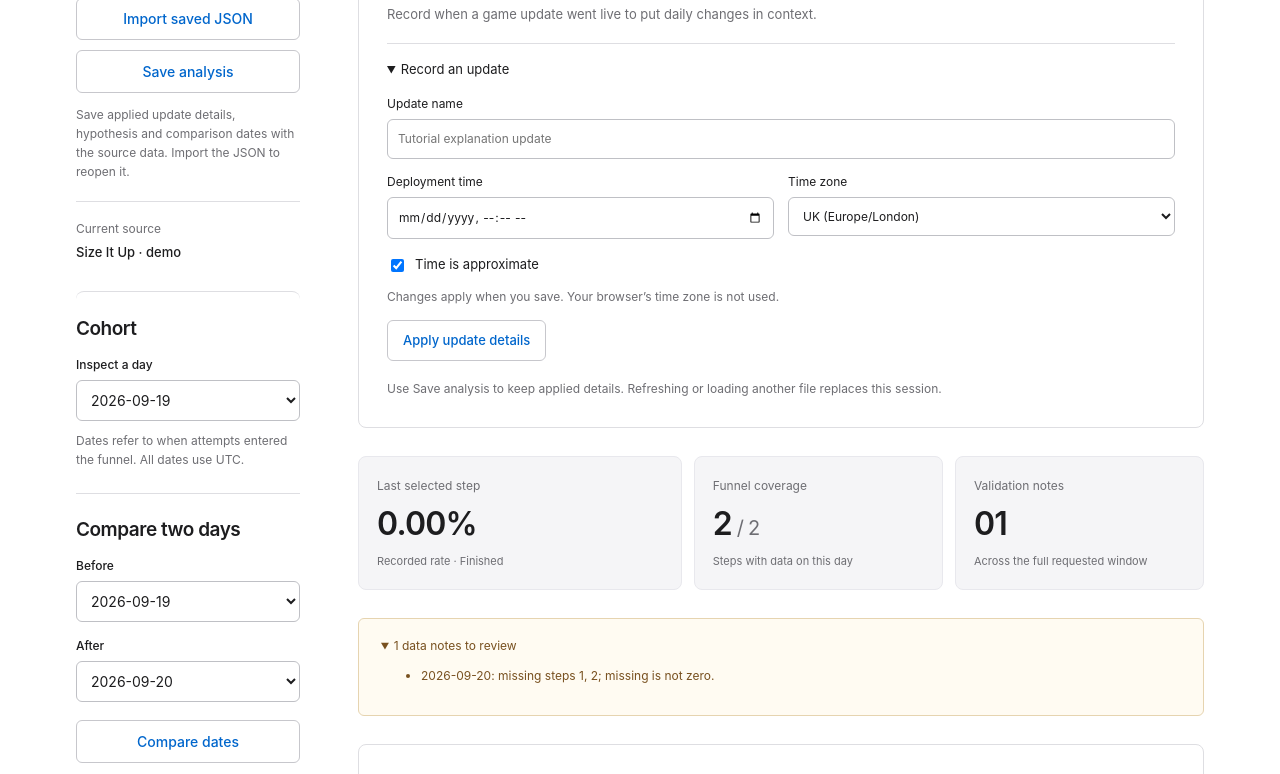
Scenario: shows warnings and distinguishes a zero day from a missing day without fetching again
(page scrolled)
Expected: the list item "2026-09-20: missing steps 1, 2; missing is not zero." is shown, [421,668,714,683]
Select "2026-09-20" in the dropdown labelled "Inspect a day" at [188, 400], box [76,380,300,420]
(page scrolled)
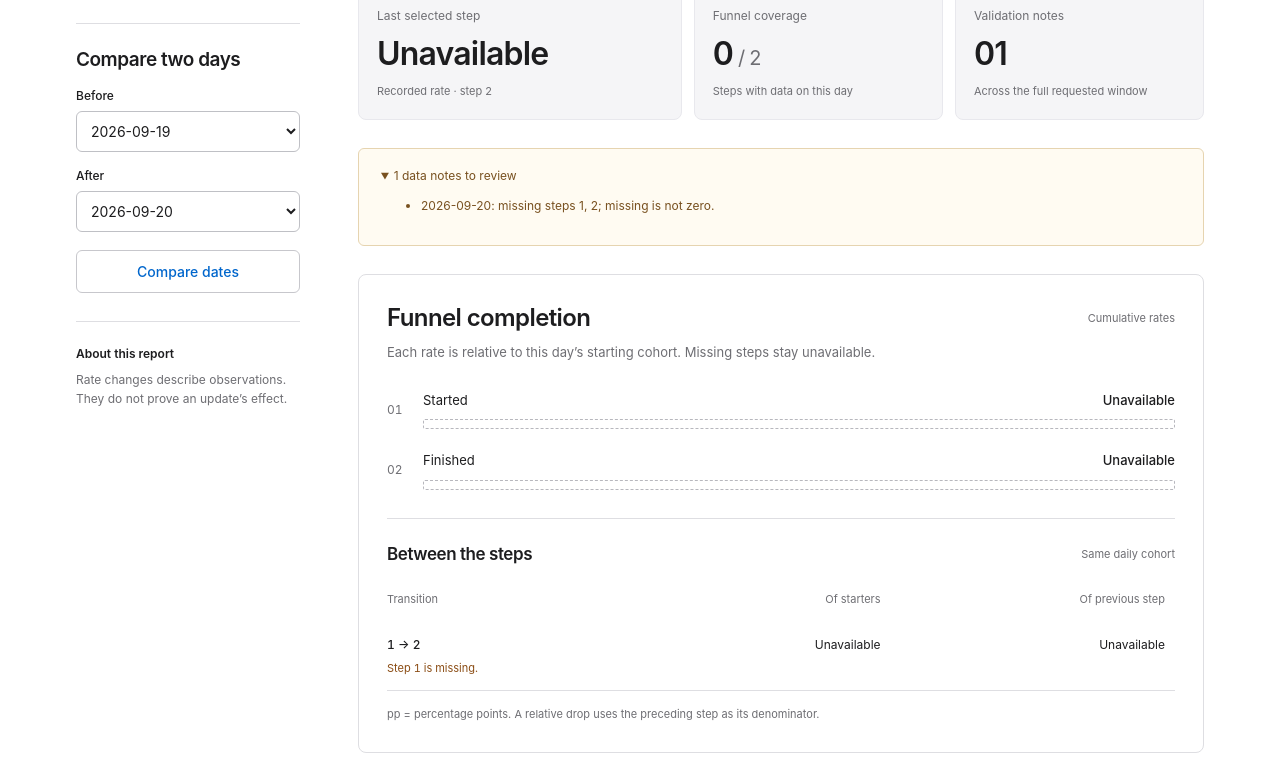
Now the text "0.00%" is gone
Now the 2nd text "Unavailable" is shown, box [1103,391,1175,410]
